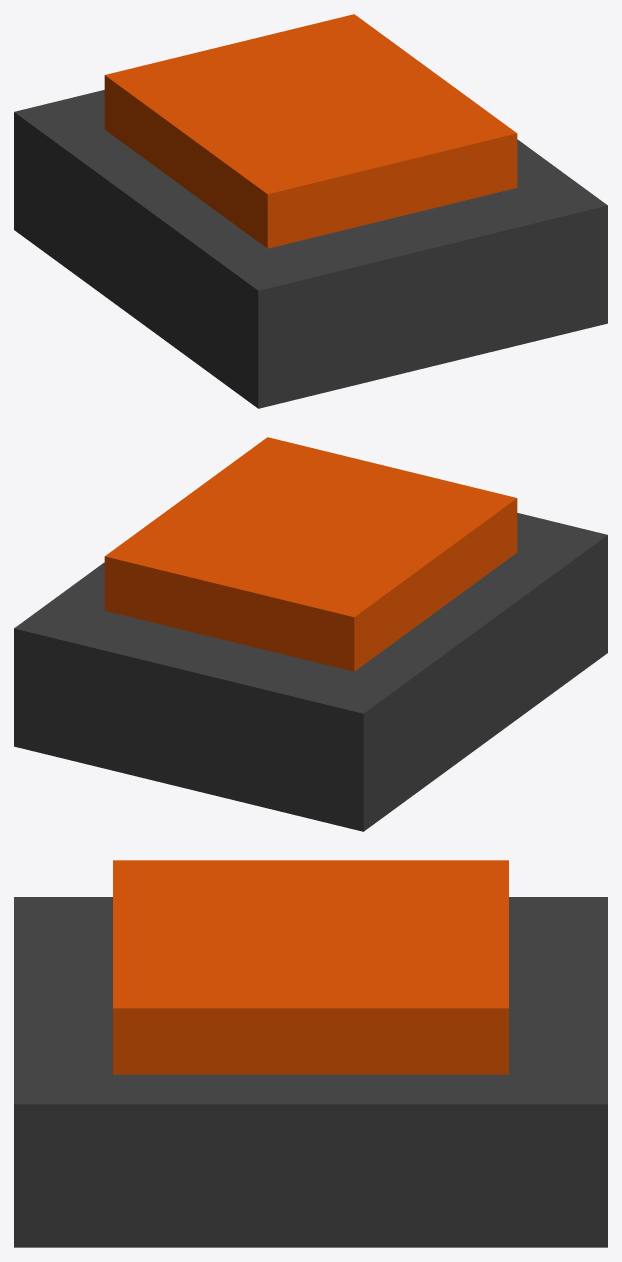
File: button.fbx
3 views of the same model, one above another, from view 1: azimuth 30°, elevation 25°; view 2: azimuth 150°, elevation 25°; view 3: azimuth 270°, elevation 25° (orthographic). The views are drawn at different scales.
Parts seen in each view (by area): view 1: pCube1; view 2: pCube1; view 3: pCube1.
Part boxes in pixels (x1,y1,x2,y2): pCube1: (14,14,607,408); pCube1: (14,437,607,831); pCube1: (14,860,607,1247).
Bounding box in the file's own units: 3.34 × 1.58 × 4.05.
